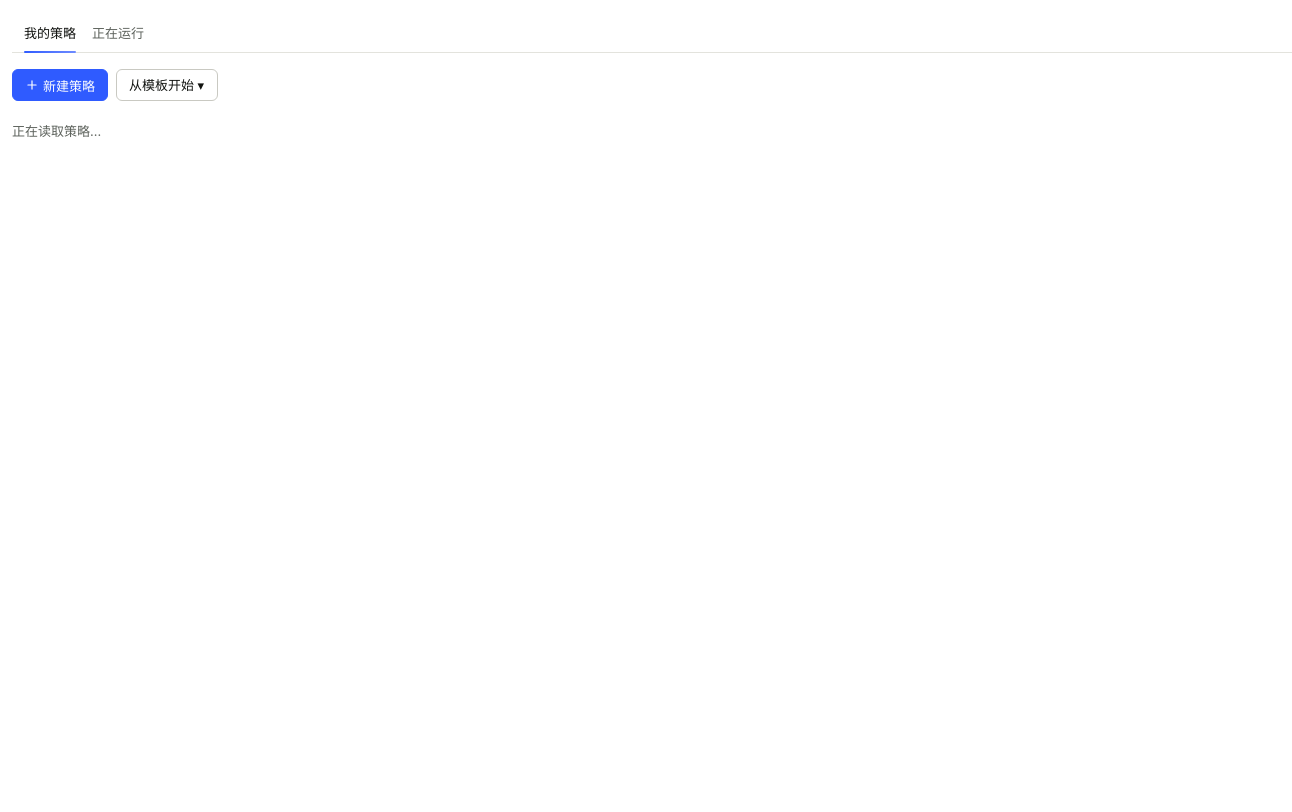
新用户留空：没有预填，止损止盈空着，不能回测也不能存；命令 save 被拒并说明缺什么
Click the button "新建策略". click: point(60, 85)
box: [12,69,108,101]
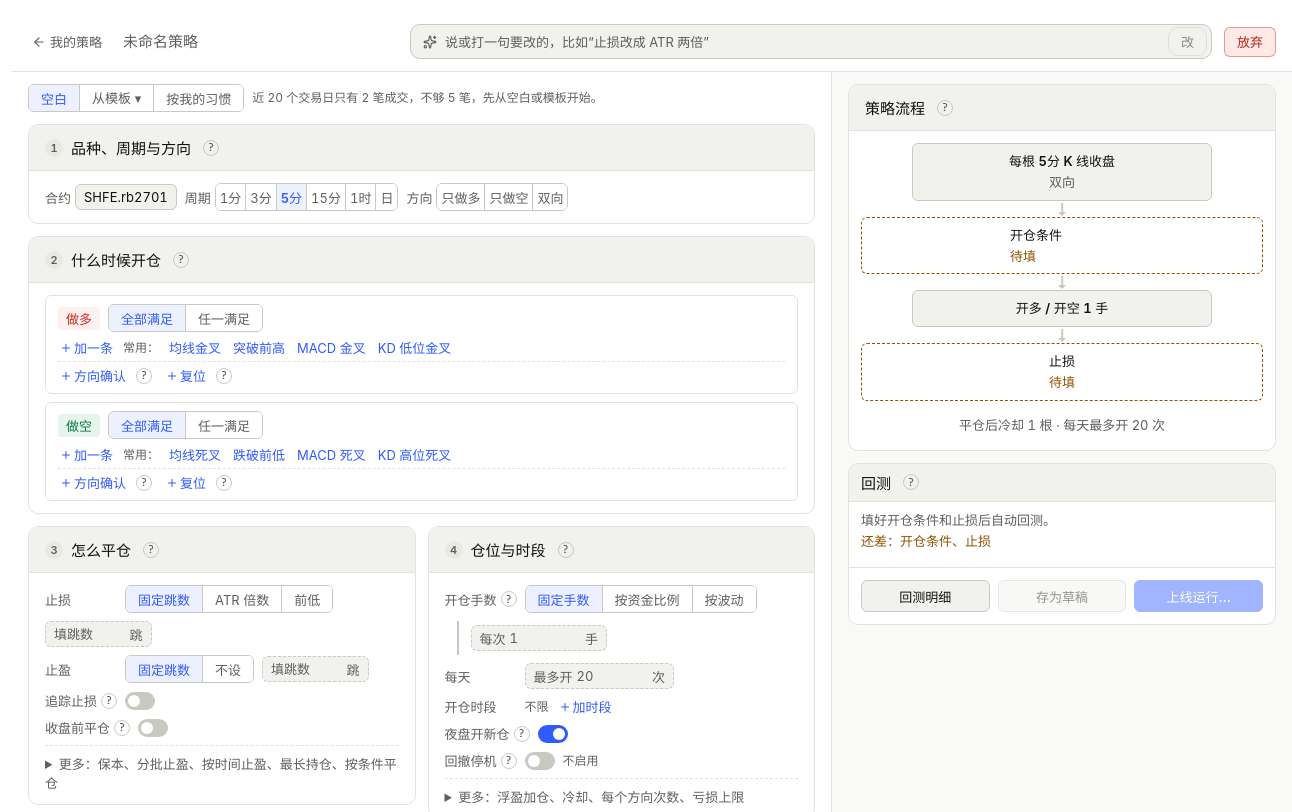
Check: the text "近 20 个交易日只有 2 笔成交，不够 5 笔，先从空白或模板开始。" is shown, box [252,89,603,107]
Check: the field named "合约" holds "SHFE.rb2701", box [84,187,168,207]
Check: the number field named "止损" is not empty, box [54,624,126,644]
